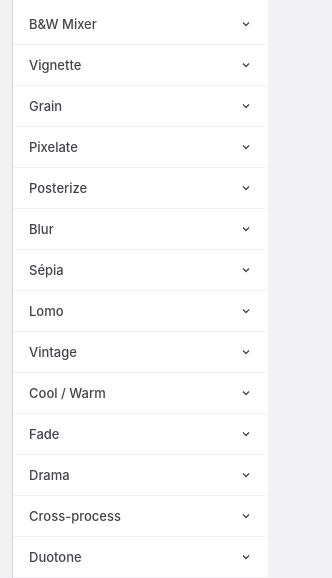
Test: FiltersPanel › Duotone: all 6 pairs are rendered
The image size is (332, 578).
(page scrolled)
Click the button "Duotone". click: (140, 557)
box: [13,537,268,577]
(page scrolled)
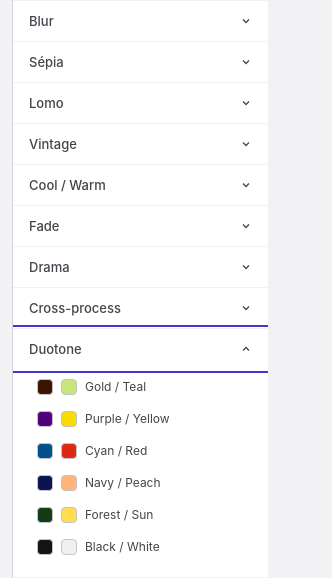
Result: the button "Gold / Teal" is shown at [29,373,252,401]
Result: the button "Purple / Yellow" is shown at [29,405,252,433]
Result: the button "Cyan / Red" is shown at [29,437,252,465]
